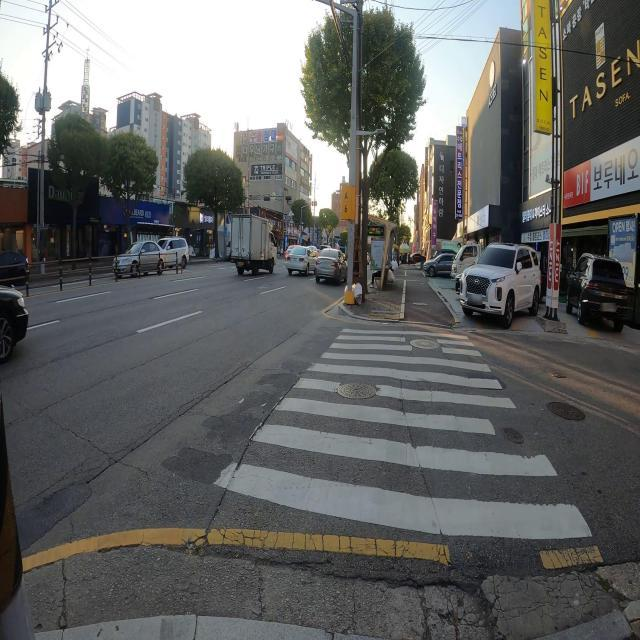crosswalk: (212, 322, 595, 538)
